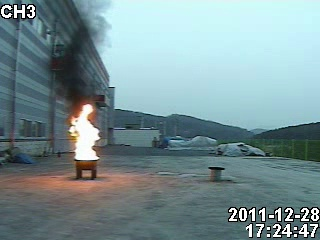fire: (67, 101, 102, 161)
